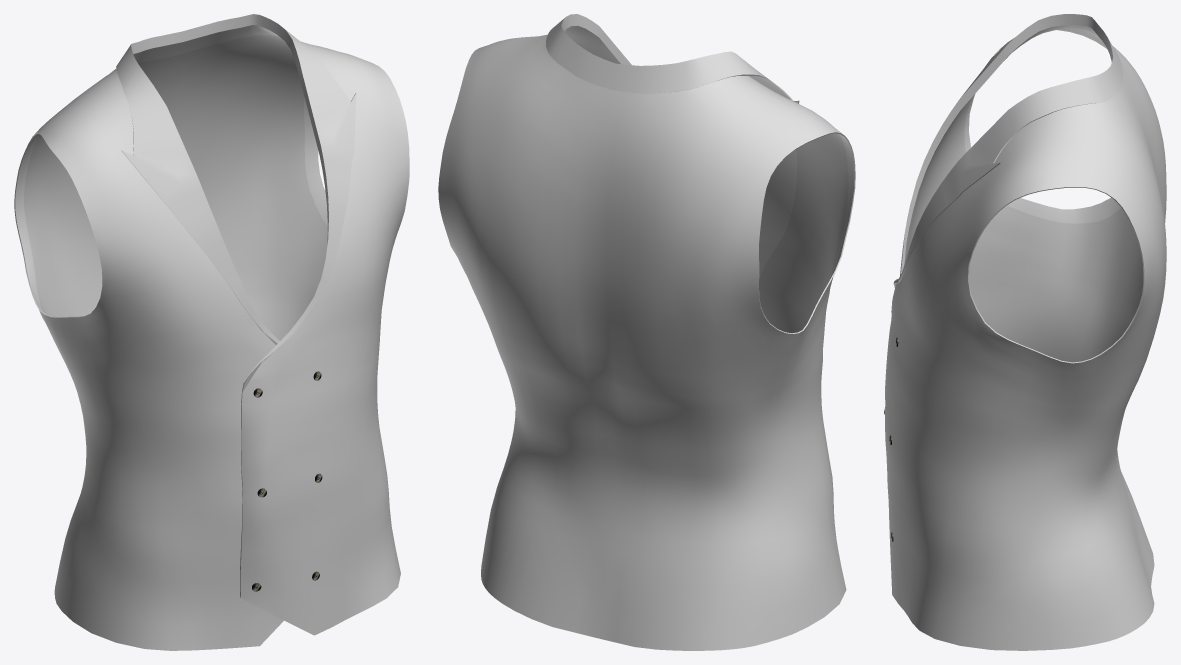
File: SM_CarlosSA_Waistcoat_FrontButtons_DB6EnglishCut.fbx
3 views of the same model, side by side, from view 1: azimuth 30°, elevation 25°; view 2: azimuth 150°, elevation 25°; view 3: azimuth 270°, elevation 25° (orthographic). The views are drawn at different scales.
Visible parts, largest first — view 1: SM_CarlosSA_Waistcoat_FrontButtons_DB6EnglishCut; view 2: SM_CarlosSA_Waistcoat_FrontButtons_DB6EnglishCut; view 3: SM_CarlosSA_Waistcoat_FrontButtons_DB6EnglishCut.
Part boxes in pixels (bbox=[...]): SM_CarlosSA_Waistcoat_FrontButtons_DB6EnglishCut: bbox=[14, 14, 409, 650]; SM_CarlosSA_Waistcoat_FrontButtons_DB6EnglishCut: bbox=[438, 14, 855, 650]; SM_CarlosSA_Waistcoat_FrontButtons_DB6EnglishCut: bbox=[884, 14, 1166, 650].
Bounding box in the file's own units: 0.3797 × 0.592 × 0.2803.
